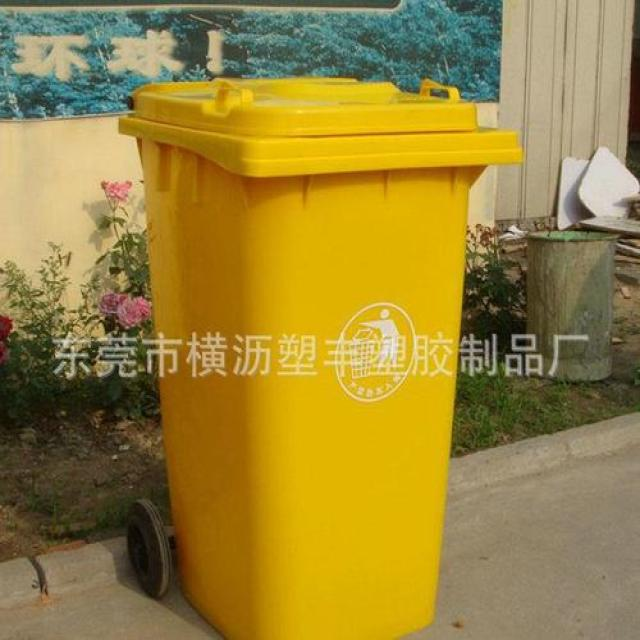garbage_bin: (116, 74, 521, 638)
